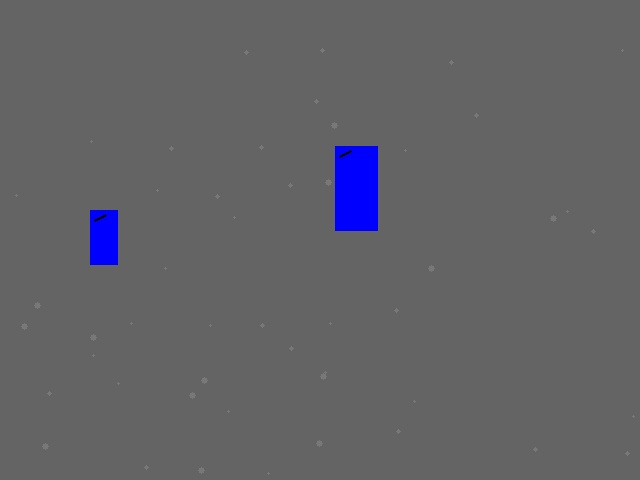motorcycle: (335, 146, 377, 230), (90, 210, 117, 264)
